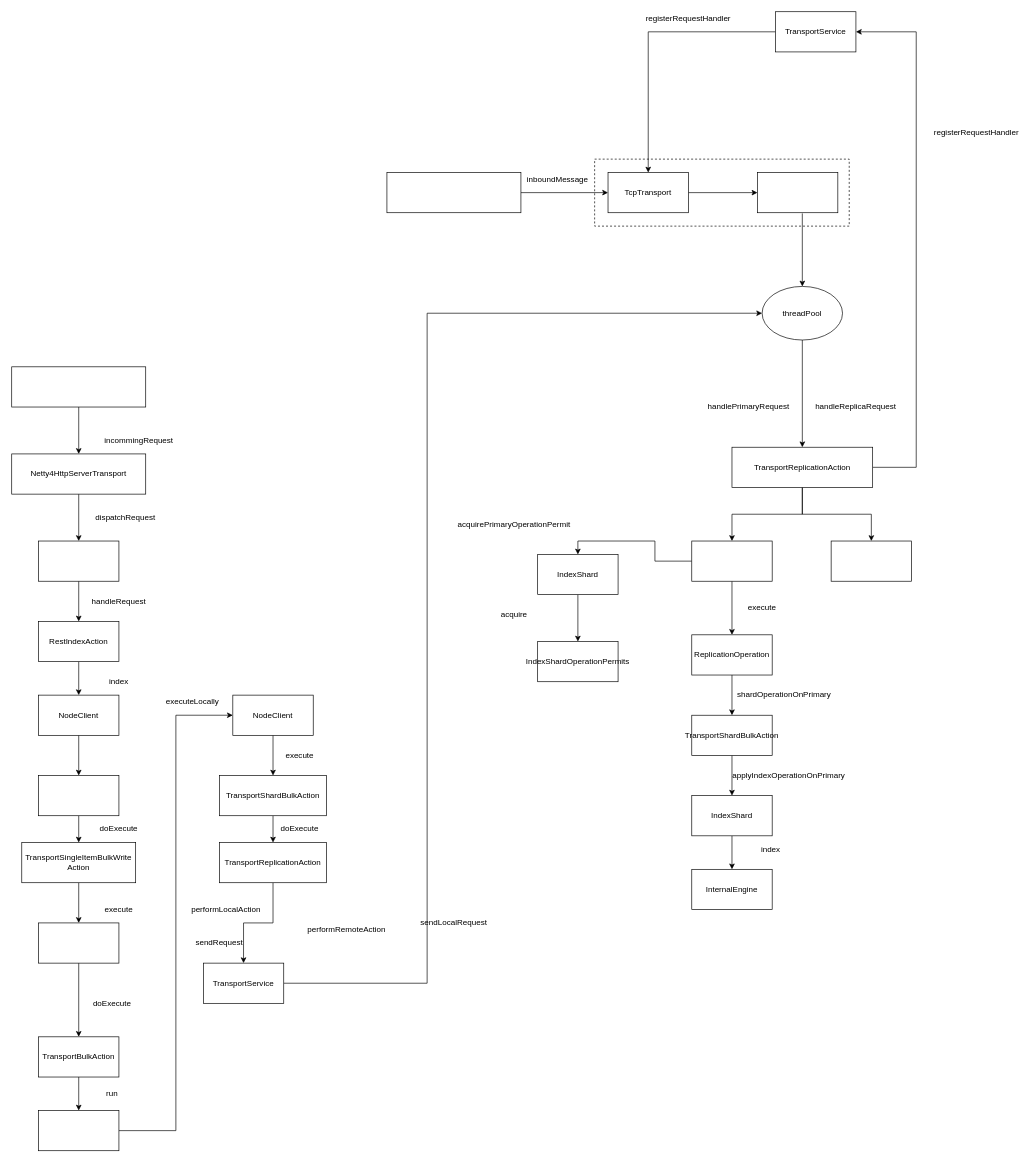
This 1030x1162 diagram has some shape labels left out. Each missing label, with the centre of its shape:
AsyncPrimaryAction: point 731,560
AsyncReplicaAction: point 871,560
BulkOperation: point 78,1130
InboundHandler: point 797,192
Netty4HttpRequestHandler: point 78,386
Netty4MessageChannelHandler: point 453,192
RestController: point 78,560
TransportAction: point 78,942
TransportIndexAction: point 78,795
